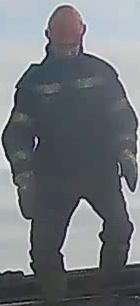gloves: (9, 162, 44, 221), (114, 146, 140, 193)
helmet: (41, 0, 88, 47)
vest: (0, 56, 128, 191)
